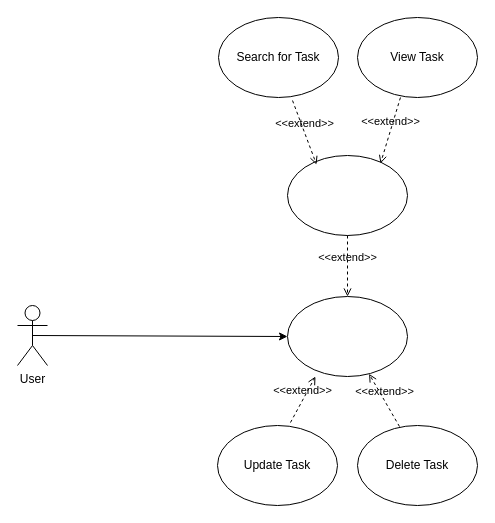
Image size: 495x523. Some labels were removed from this diagram. The centre of each missing label's shape, as x and y in pixels:
"Add Task" belongs at (x=347, y=336).
"View All Task" belongs at (x=347, y=195).
